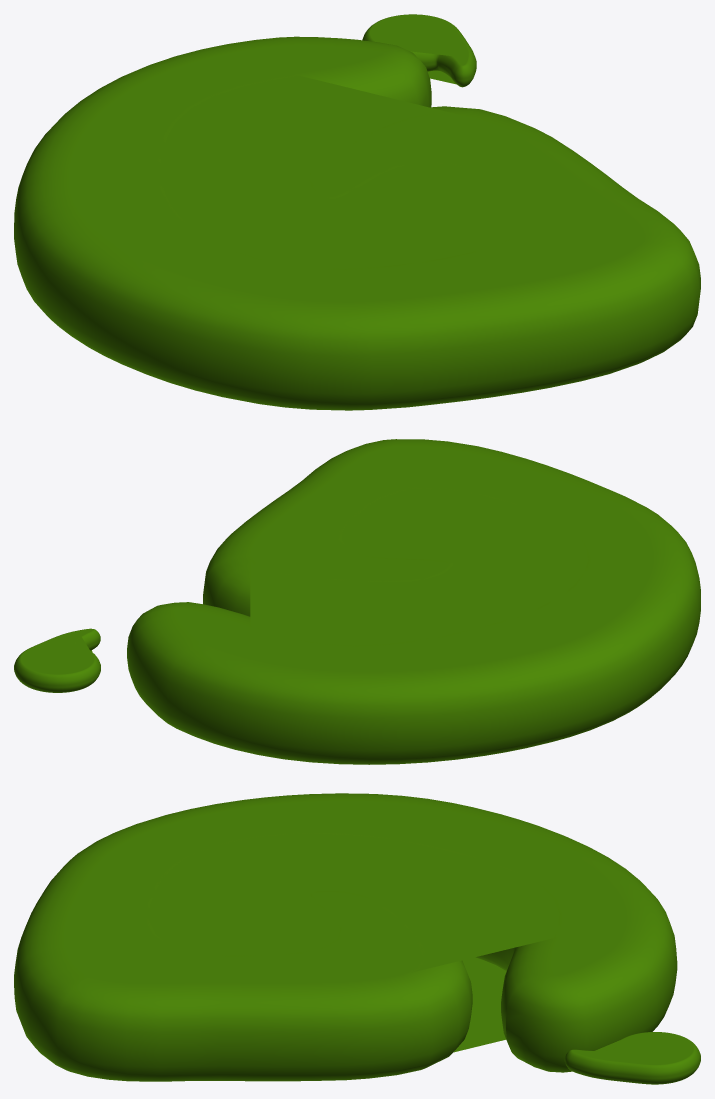
File: g тверд.fbx
3 views of the same model, one above another, from view 1: azimuth 30°, elevation 25°; view 2: azimuth 150°, elevation 25°; view 3: azimuth 270°, elevation 25° (orthographic). The views are drawn at different scales.
Parts seen in each view (by area): view 1: Curve.028, Circle.002; view 2: Curve.028, Circle.002; view 3: Curve.028, Circle.002.
Part boxes in pixels (x1,y1,x2,y2): Curve.028: [14, 36, 700, 410]; Circle.002: [362, 14, 476, 87]; Curve.028: [127, 439, 700, 764]; Circle.002: [14, 628, 100, 692]; Curve.028: [14, 793, 677, 1081]; Circle.002: [564, 1032, 700, 1084].
Bounding box in the file's own units: 298 × 49.54 × 343.
Materials: 1 (1 with a texture image).
